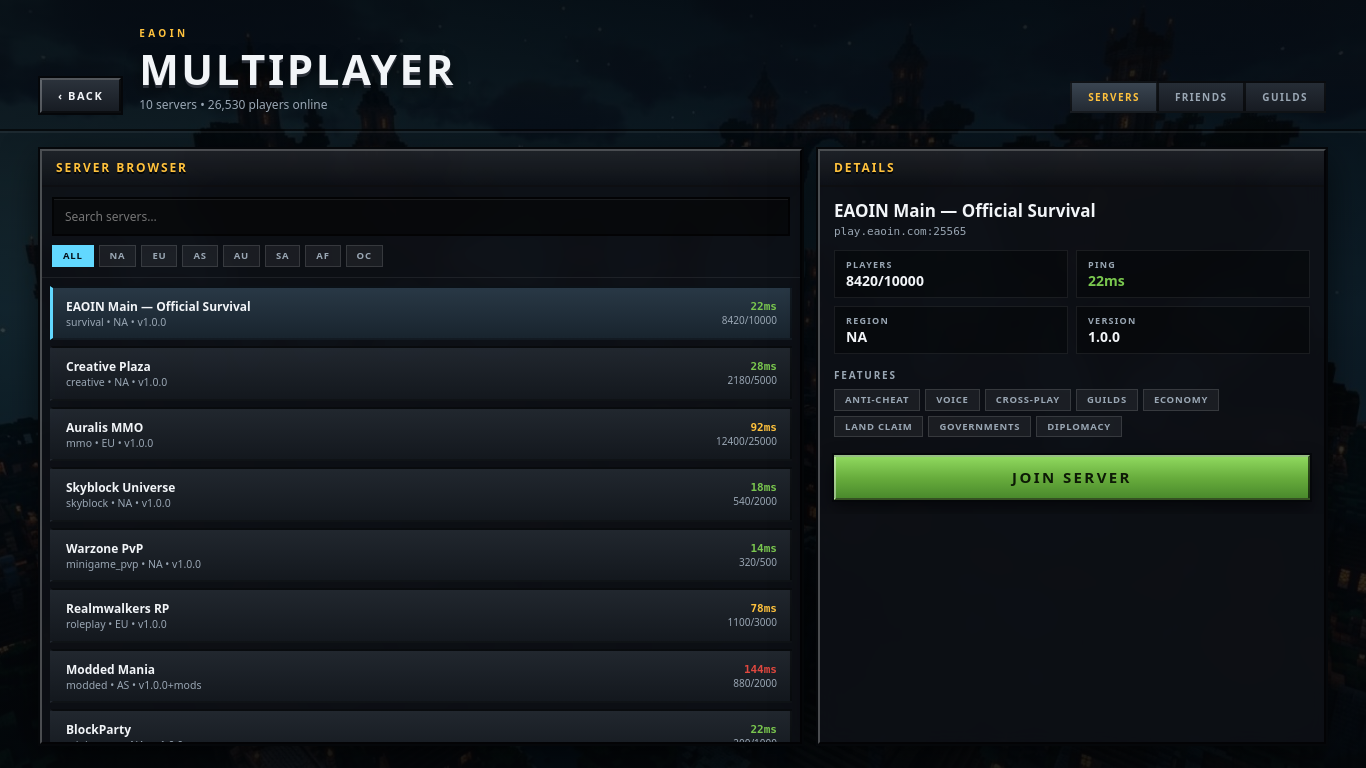
Test: MultiplayerScreen › switches to the friends tab
The width and height of the screenshot is (1366, 768).
Click the button "Friends": (1201, 97) [1157,81,1244,113]
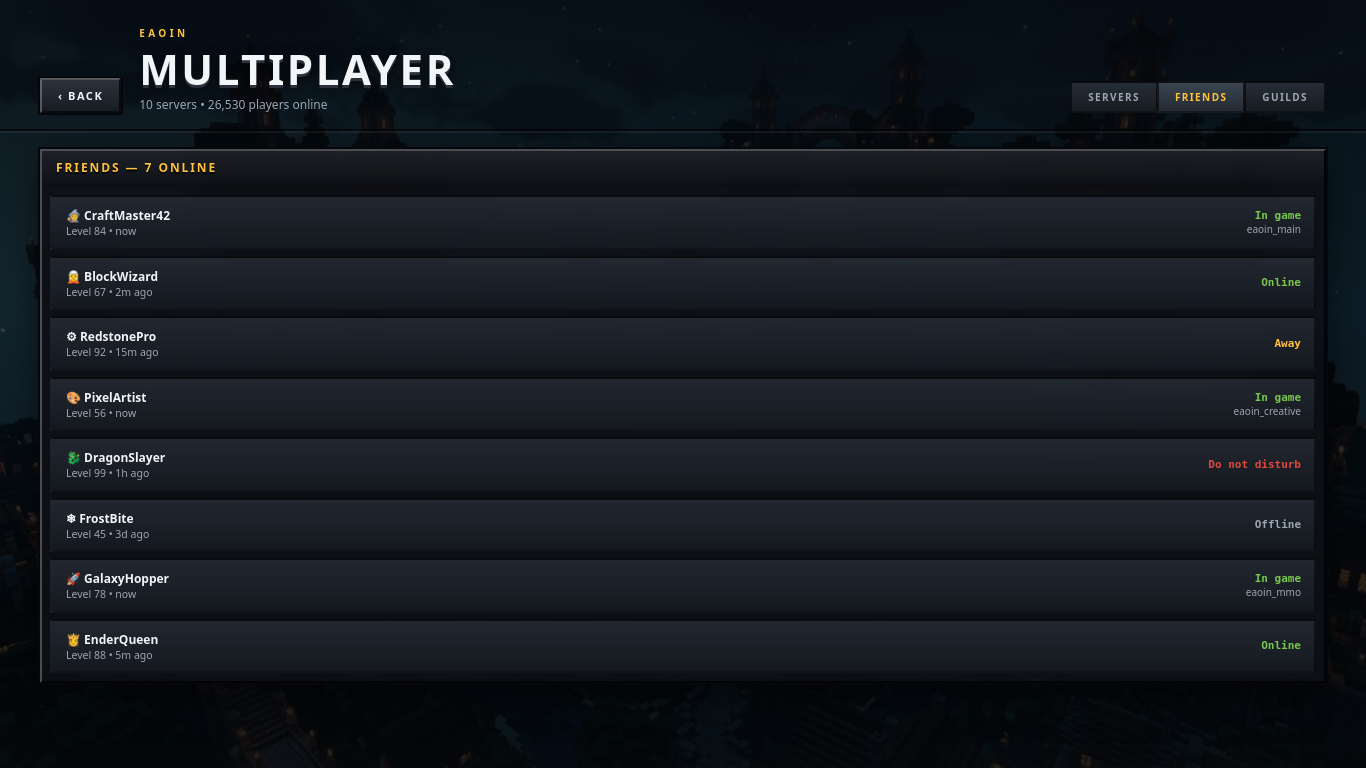
Result: the text "CraftMaster42" is shown at [84,207,170,224]
